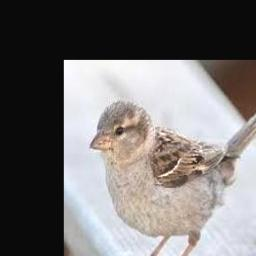Sparrow: (89, 99, 256, 256)
